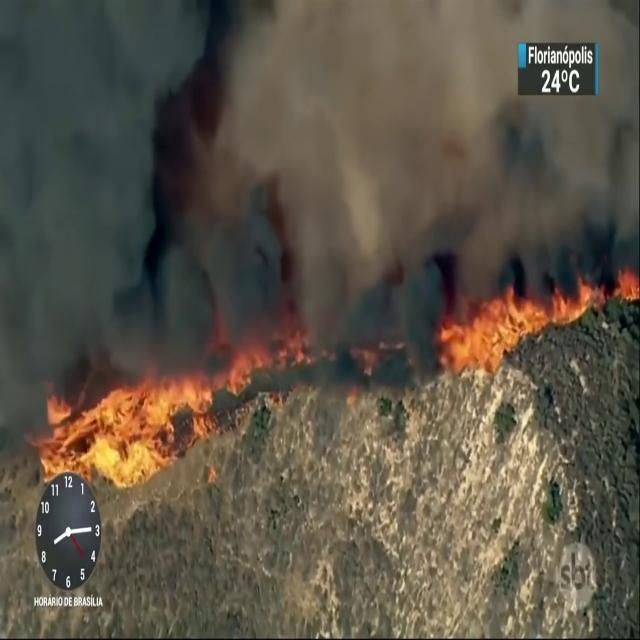Fire: (39, 328, 314, 490), (444, 273, 602, 371), (616, 266, 640, 302)
